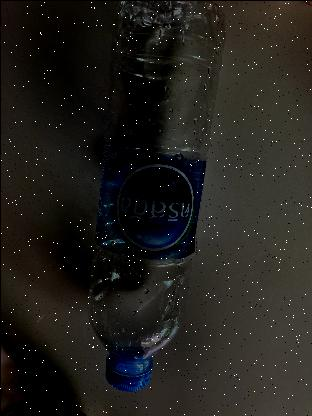Plastic Bottle: (81, 0, 225, 395)
